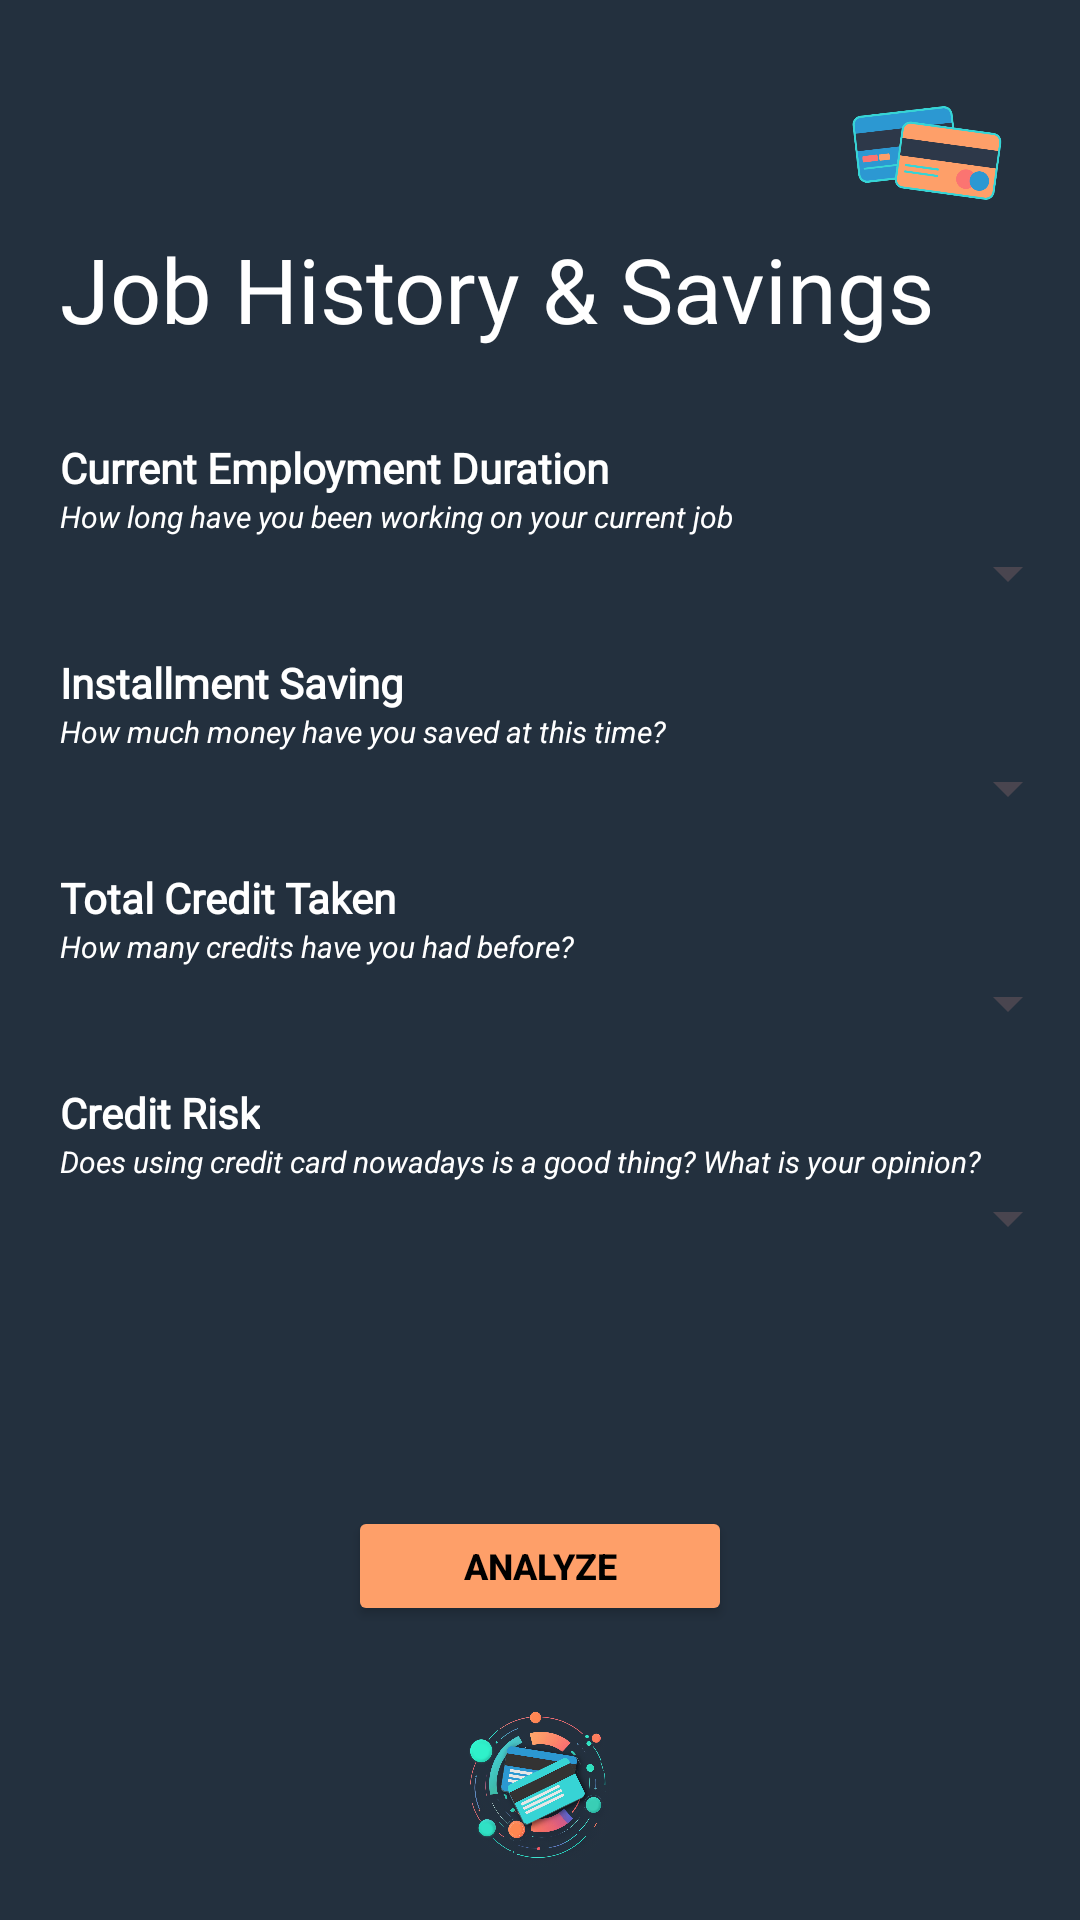

Where icons sit on this 1080*1920 app screen, as (x1=x1, y1=y1, x2=x2, y2=y2):
credit card: (x1=852, y1=106, x2=1001, y2=200)
